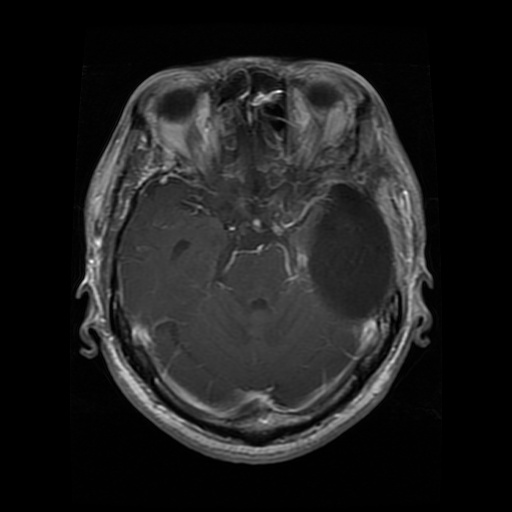glioma: (308, 183, 398, 319)
